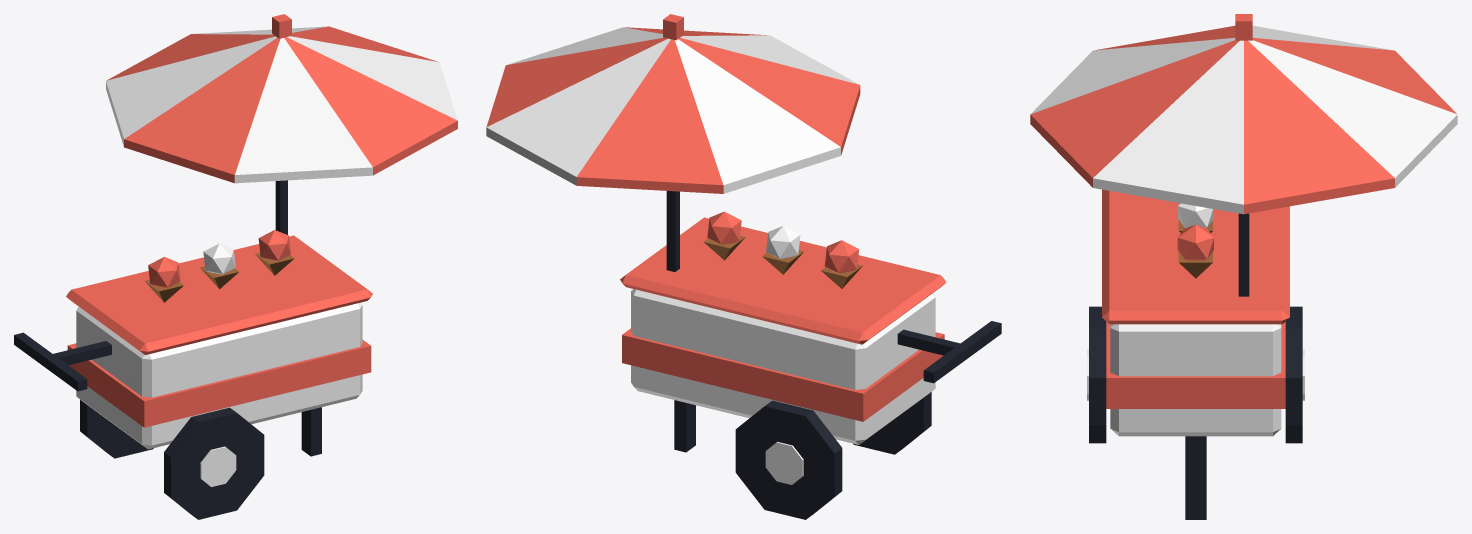
The model's file is ice-cream-cart.glb.
3 renders of one model, left to right at view 1: azimuth 30°, elevation 25°; view 2: azimuth 150°, elevation 25°; view 3: azimuth 270°, elevation 25°, orthographic. The views are drawn at different scales.
Parts seen in each view (by area): view 1: ice-cream-cart; view 2: ice-cream-cart; view 3: ice-cream-cart.
Part boxes in pixels (x1,y1,x2,y2): ice-cream-cart: (14,14,457,519); ice-cream-cart: (486,14,1001,519); ice-cream-cart: (1030,14,1457,519).
Size of the model in its own units: 2.62 by 2.55 by 2.
